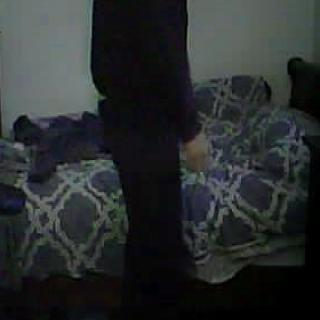Navy Sweatpants: (101, 113, 194, 320)
